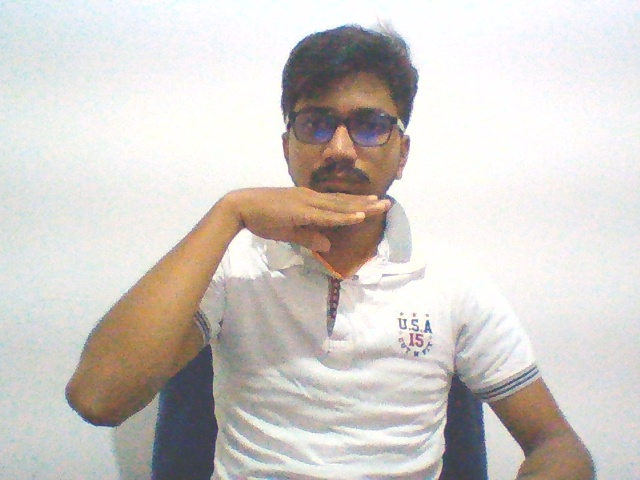elephant: (215, 176, 398, 260)
